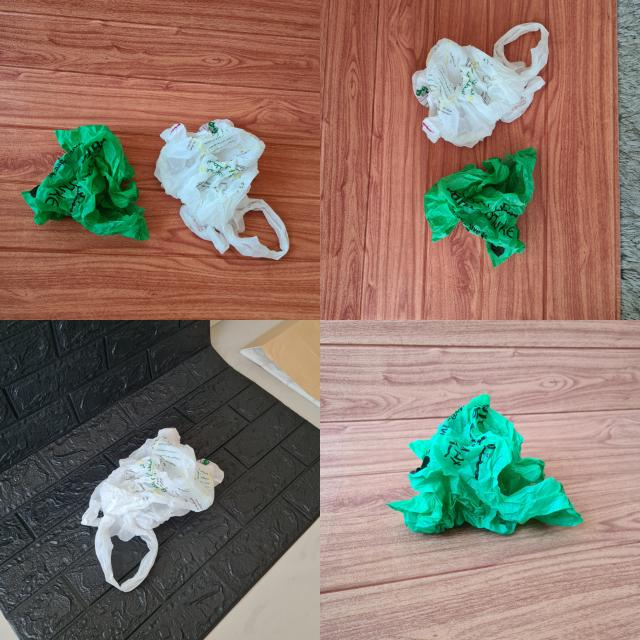Single-layer Plastic: (389, 395, 581, 534), (81, 428, 224, 591), (155, 120, 289, 260), (412, 22, 549, 148), (22, 125, 149, 240), (424, 148, 536, 266)
